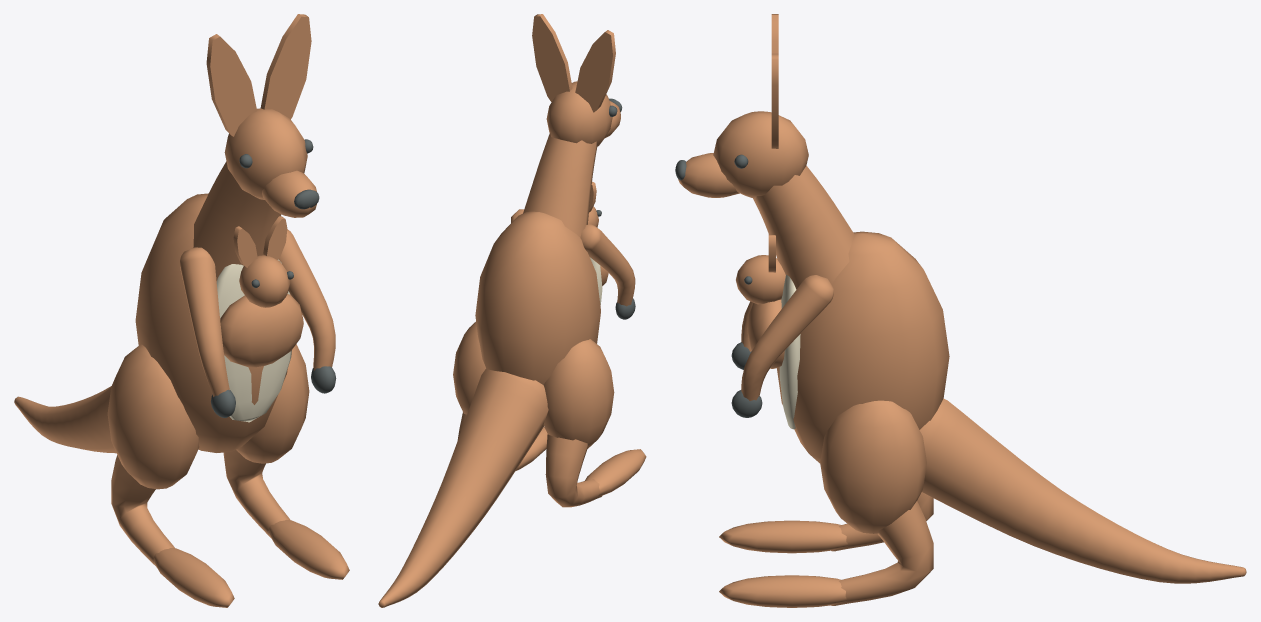
File: outback-and-australian-wildlife-kangaroo-with-joey-e308bd2b__5904.glb
The picture shows the model from 3 angles, left to right: view 1: azimuth 30°, elevation 25°; view 2: azimuth 150°, elevation 25°; view 3: azimuth 270°, elevation 25°; orthographic projection. The views are drawn at different scales.
Parts seen in each view (by area): view 1: kangaroo-with-joey; view 2: kangaroo-with-joey; view 3: kangaroo-with-joey.
Part boxes in pixels (box(x1,y1,x2,y2)): kangaroo-with-joey: box(14, 14, 349, 607); kangaroo-with-joey: box(378, 14, 646, 607); kangaroo-with-joey: box(675, 14, 1246, 607).
Size of the model in its own units: 0.7401 by 2.15 by 2.03.
